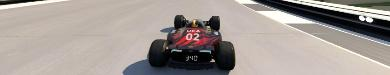Car: (147, 14, 235, 69)
Solid White and black: (233, 0, 389, 74)
